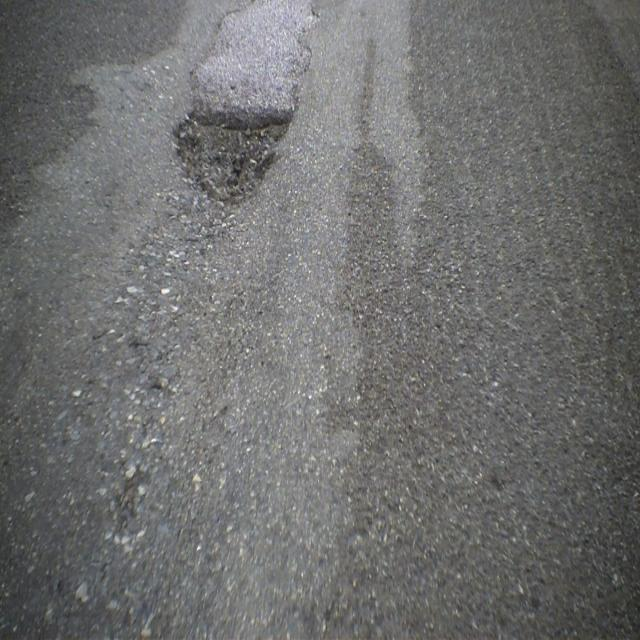Pothole: (158, 88, 304, 220)
